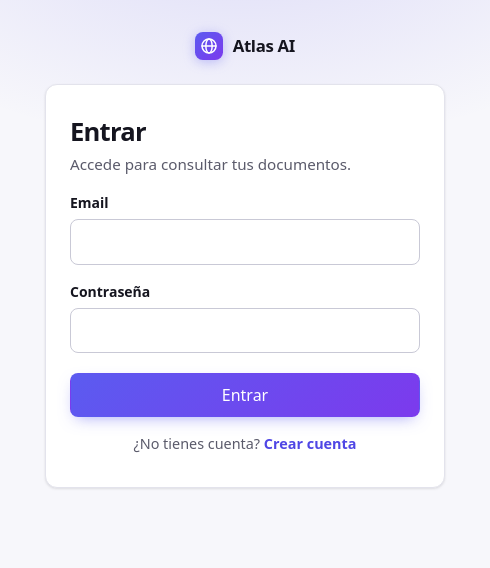
Scenario: login › muestra el error de credenciales sin salir de la página
Type "ana@example.com" into the field labelled "Email". click: (245, 242)
box: [70,220,420,265]
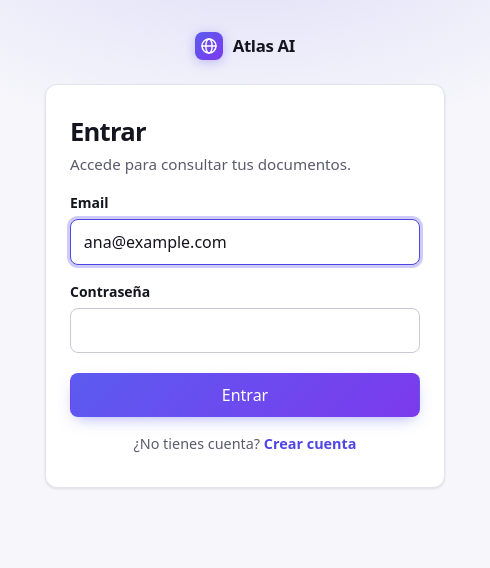
Type "mala contraseña" into the password field labelled "Contraseña". click: (245, 331)
box: [70,308,420,353]
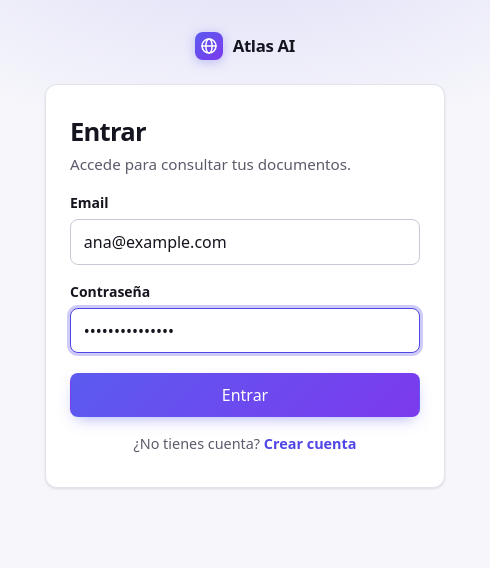
Click the button "Entrar". click: (245, 395)
box: [70,373,420,417]
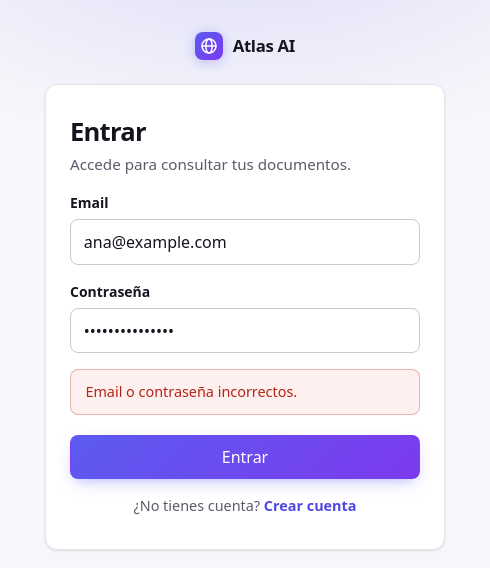
Expected: the button "Entrar" is enabled, [70,435,420,479]
Result: the message reads "Email o contraseña incorrectos." at [85,382,297,401]
